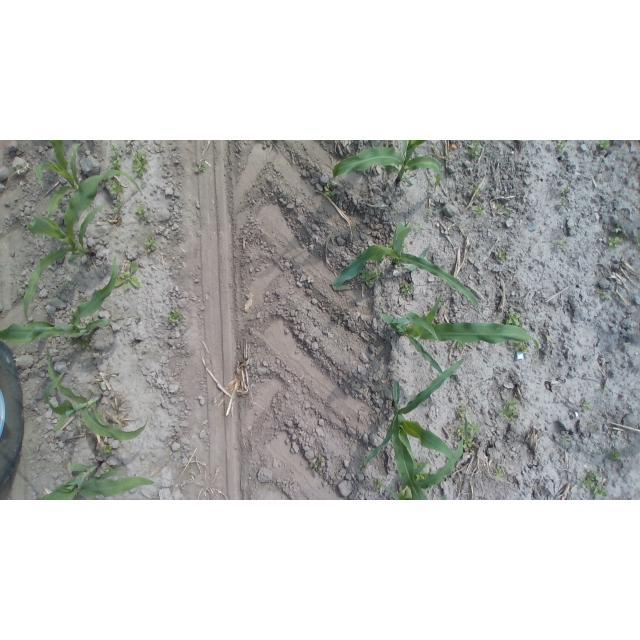Maize: (23, 170, 143, 324), (362, 355, 469, 500), (333, 224, 479, 312), (379, 293, 538, 373), (0, 256, 118, 345), (42, 346, 149, 440), (391, 415, 470, 499), (333, 140, 444, 196), (37, 461, 155, 500), (35, 141, 82, 218)
Weeds: (579, 468, 609, 498), (115, 259, 141, 290), (108, 177, 127, 211), (456, 422, 480, 448), (131, 150, 149, 179), (360, 267, 385, 287), (499, 398, 519, 423), (107, 144, 122, 170), (323, 181, 343, 198), (166, 308, 184, 326), (465, 141, 484, 158), (137, 204, 152, 224), (145, 234, 160, 253), (76, 335, 95, 349), (509, 341, 529, 354), (458, 403, 471, 422), (594, 287, 611, 301), (309, 457, 324, 472), (506, 312, 522, 326), (399, 281, 413, 295), (608, 236, 624, 248), (194, 160, 207, 173), (471, 183, 482, 198), (375, 477, 386, 492), (610, 450, 622, 463), (472, 204, 484, 216), (555, 140, 567, 152), (596, 140, 610, 149), (494, 469, 505, 480), (416, 471, 427, 481), (498, 250, 507, 262), (558, 238, 567, 250), (103, 443, 113, 453), (612, 225, 624, 233), (582, 401, 591, 411), (560, 199, 568, 209), (561, 437, 569, 446), (64, 279, 72, 287), (416, 222, 424, 230), (457, 341, 465, 349), (125, 147, 133, 154), (57, 286, 65, 293), (588, 423, 596, 430), (495, 204, 503, 211), (507, 209, 514, 217), (433, 205, 439, 213), (562, 188, 569, 194), (403, 243, 408, 249), (600, 388, 605, 393)
